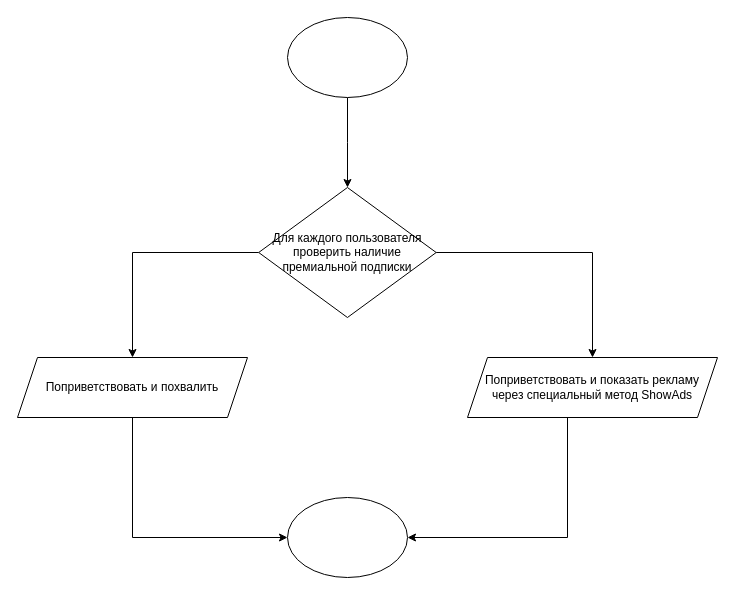
Some shapes in this 735 by 595 pixel diagram are drawn without their labels. The centre of each missing label's shape, as x and y in pixels:
Конец: pixel 347 537
Начало: pixel 347 57
